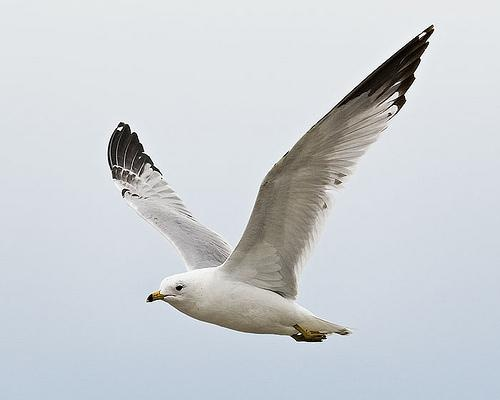bird: (105, 25, 434, 346)
